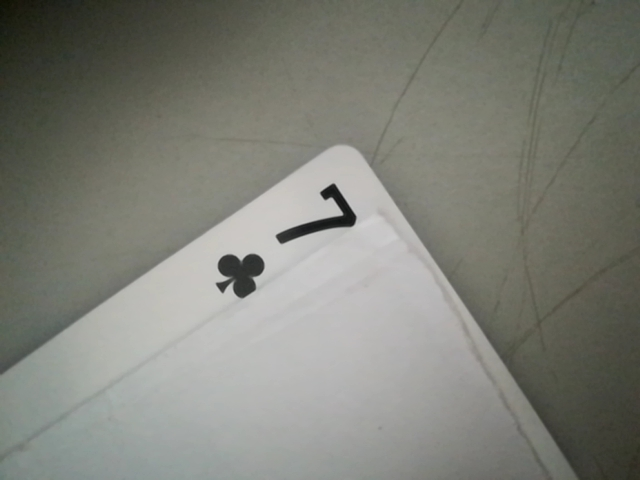mh 7: (186, 178, 388, 297)
